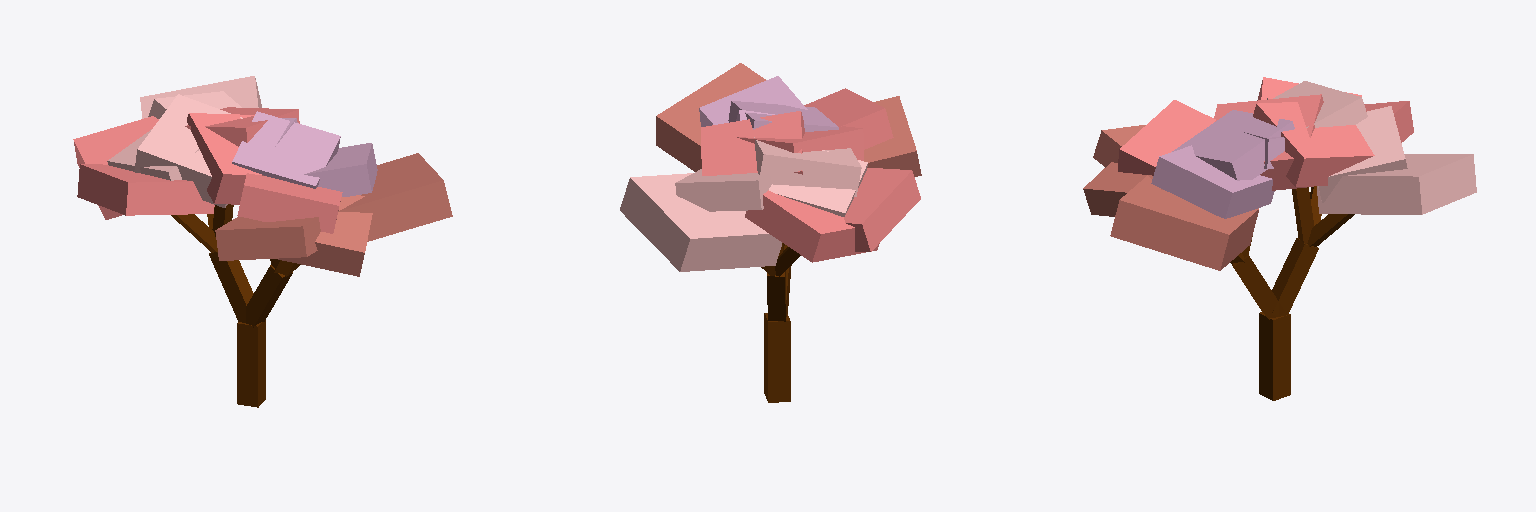
Rendered from cherryTree.obj.
3 renders of one model, left to right at view 1: azimuth 30°, elevation 25°; view 2: azimuth 150°, elevation 25°; view 3: azimuth 270°, elevation 25°, orthographic.
Parts seen in each view (by area): view 1: Leaf4, Leaf12, Leaf1, Leaf9, Leaf7, Leaf5, Leaf8, Leaf6, Leaf3, Branch24, Leaf13, Leaf15 (+6 smaller); view 2: Leaf15, Leaf13, Leaf12, Leaf4, Leaf10, Leaf9, Leaf14, Leaf5, Leaf7, Branch24, Leaf3, Leaf8 (+3 smaller); view 3: Leaf4, Leaf15, Leaf10, Leaf3, Leaf1, Leaf5, Leaf14, Branch24, Leaf9, Leaf8, Leaf6, Branch23 (+6 smaller).
Part boxes in pixels (x1,y1,x2,y2): Leaf4: (338, 153, 452, 241); Leaf12: (77, 164, 214, 215); Leaf1: (232, 111, 340, 188); Leaf9: (134, 94, 242, 207); Leaf7: (215, 216, 320, 260); Leaf5: (237, 173, 342, 233); Leaf8: (187, 113, 263, 204); Leaf6: (278, 195, 372, 276); Leaf3: (304, 143, 377, 196); Branch24: (237, 320, 265, 407); Leaf13: (73, 116, 158, 219); Leaf15: (140, 76, 261, 118); Leaf15: (620, 173, 781, 271); Leaf13: (745, 190, 879, 262); Leaf12: (844, 168, 920, 251); Leaf4: (656, 63, 765, 171); Leaf10: (701, 111, 804, 175); Leaf9: (754, 137, 861, 196); Leaf14: (675, 169, 771, 211); Leaf5: (804, 88, 893, 149); Leaf7: (864, 96, 921, 176); Branch24: (764, 313, 790, 402); Leaf3: (699, 76, 807, 126); Leaf8: (737, 126, 863, 160); Leaf4: (1110, 175, 1258, 270); Leaf15: (1317, 154, 1476, 214); Leaf10: (1253, 102, 1374, 186); Leaf3: (1151, 145, 1274, 218); Leaf1: (1172, 110, 1294, 180); Leaf5: (1118, 100, 1215, 175); Leaf14: (1318, 106, 1407, 202); Branch24: (1259, 312, 1290, 400); Leaf9: (1273, 81, 1367, 127); Leaf8: (1214, 94, 1323, 190); Leaf6: (1083, 162, 1162, 216); Branch23: (1272, 238, 1318, 316).
Bounding box in the file's own units: 125 × 120 × 151.